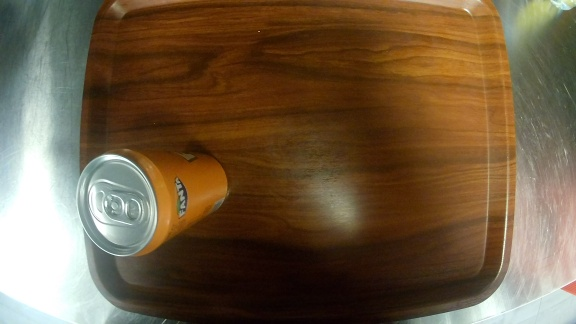kutufanta: (71, 146, 236, 261)
